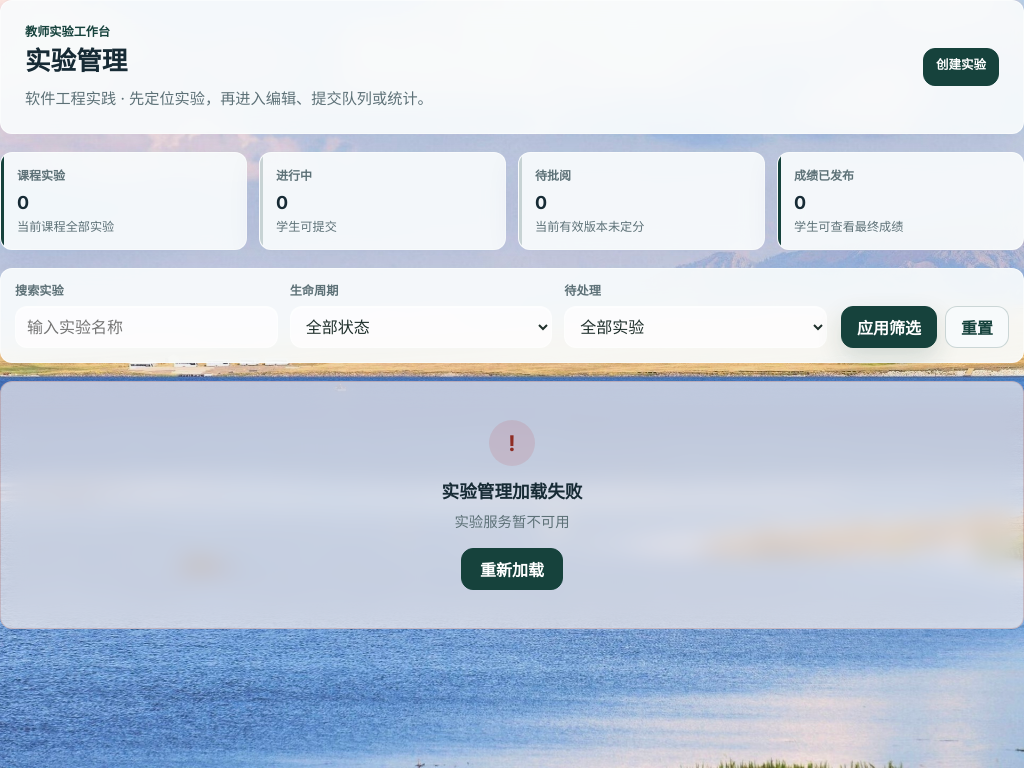
Test: LabTeacherView › recovers from initial-load and lifecycle failures without losing the action
Expected: the message "! 实验管理加载失败 实验服务暂不可用 重新加载" is shown, [0, 381, 1023, 629]
Click the button with test id "page-state-retry" at (512, 569), box [461, 548, 563, 590]
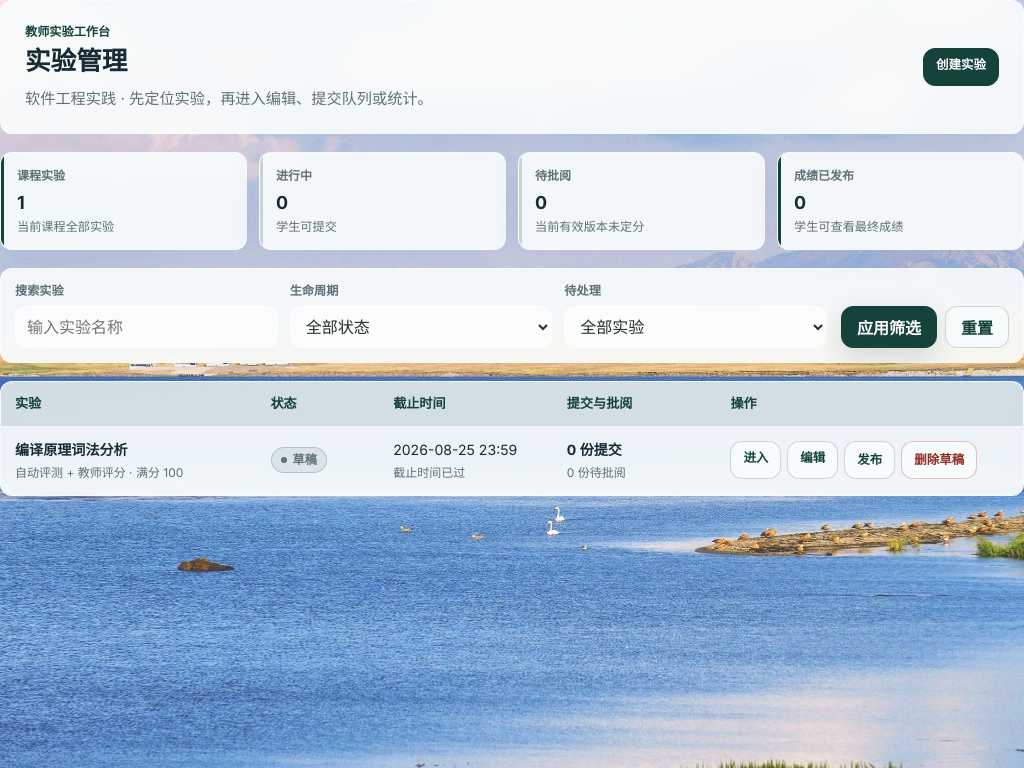
Expected: the text "编译原理词法分析" is shown, [15, 440, 128, 458]
Click the button with test id "delete-lab-1" at (939, 460), box [901, 441, 977, 479]
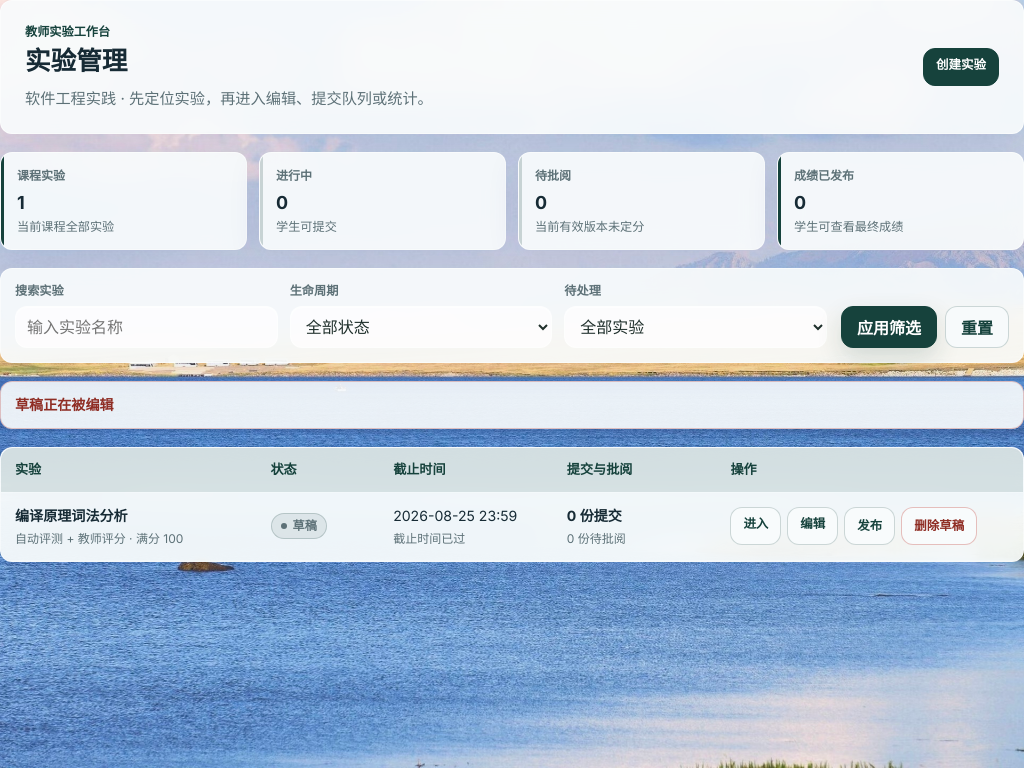
Expected: the button with test id "delete-lab-1" is enabled, [901, 508, 977, 546]
Expected: the message with test id "operation-error" reads "草稿正在被编辑", [15, 396, 114, 413]
